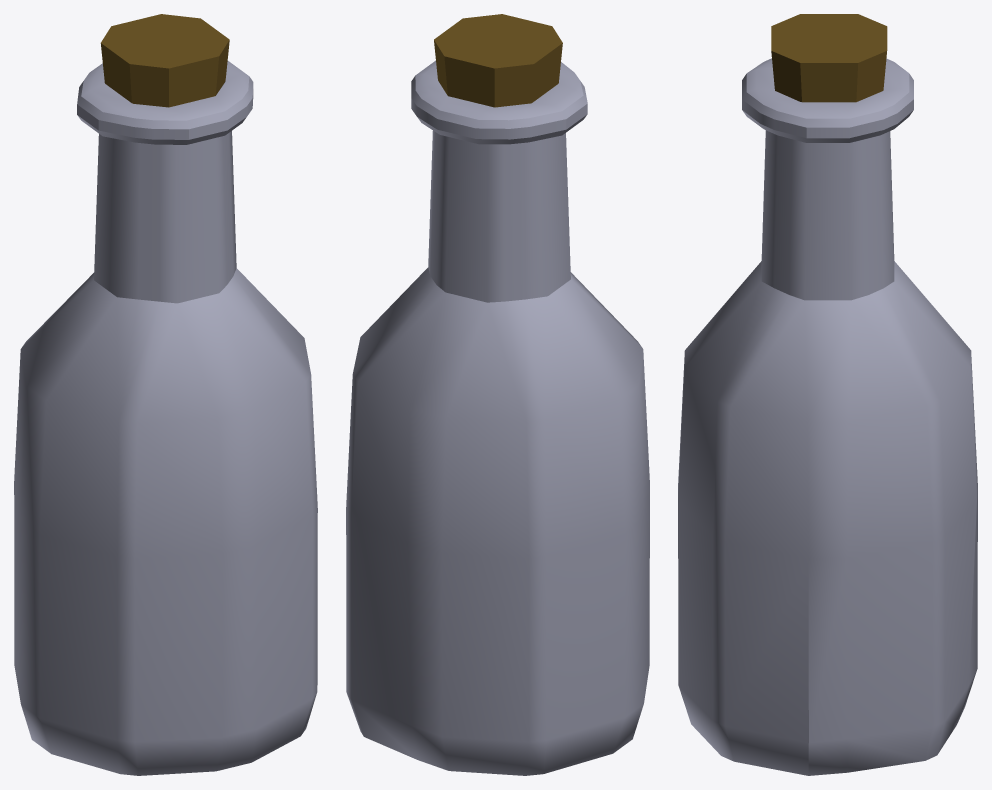
File: Bottle.fbx
3 renders of one model, left to right at view 1: azimuth 30°, elevation 25°; view 2: azimuth 150°, elevation 25°; view 3: azimuth 270°, elevation 25°, orthographic.
Parts seen in each view (by area): view 1: polySurface147; view 2: polySurface147; view 3: polySurface147.
Boxes of the visible parts, x1,y1,x2,y2 form: polySurface147: (14,14,317,775); polySurface147: (346,14,649,775); polySurface147: (678,14,977,775).
Size of the model in its own units: 0.2552 by 0.6253 by 0.2446.
